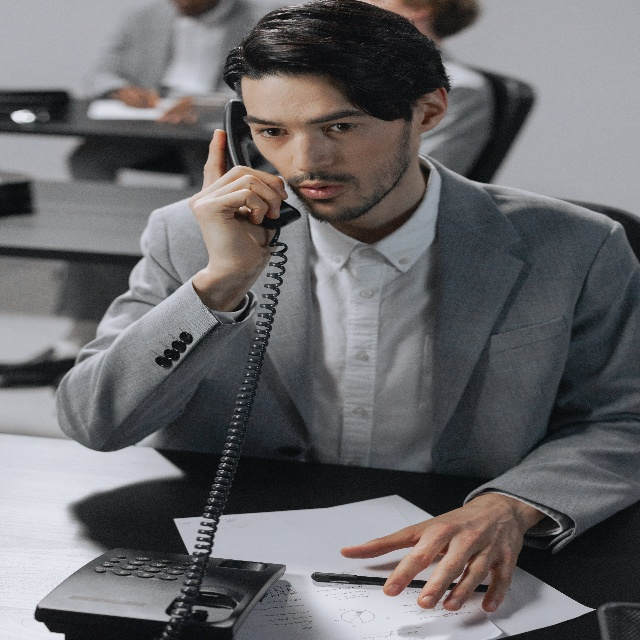Sin_guantes: (340, 494, 525, 613), (189, 128, 288, 284)
